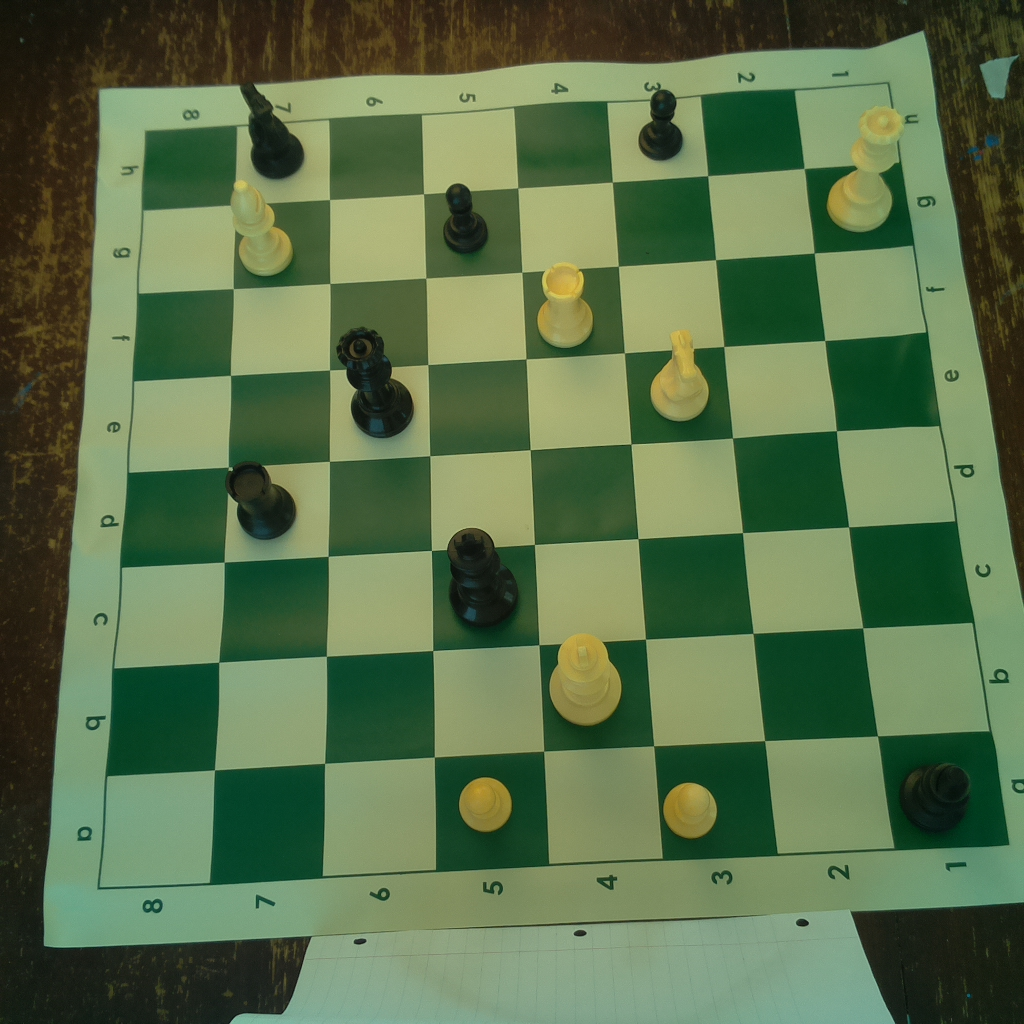black_bishop: (898, 753, 973, 832)
black_king: (441, 522, 525, 628)
black_knight: (234, 71, 311, 183)
black_pawn: (436, 180, 493, 254), (637, 87, 688, 161)
black_queen: (333, 323, 418, 441)
black_rook: (225, 458, 303, 539)
file_a: (99, 732, 1008, 887)
file_b: (107, 623, 993, 775)
file_c: (112, 526, 975, 665)
file_d: (118, 427, 955, 570)
file_e: (125, 334, 941, 474)
file_f: (133, 245, 933, 382)
file_g: (137, 165, 915, 293)
file_h: (141, 84, 902, 214)
outline: (99, 80, 1015, 888)
rank_1: (796, 83, 1010, 851)
rank_2: (702, 87, 894, 854)
rank_3: (607, 93, 780, 858)
rank_4: (514, 100, 663, 864)
rank_5: (423, 106, 551, 871)
rank_6: (319, 114, 436, 873)
rank_7: (207, 121, 329, 883)
rank_8: (97, 126, 236, 886)
white_bishop: (223, 174, 296, 275)
white_king: (542, 626, 625, 726)
white_knight: (644, 328, 711, 422)
white_pawn: (658, 773, 723, 847), (451, 765, 518, 832)
white_queen: (823, 99, 905, 238)
white_rook: (532, 258, 601, 356)
